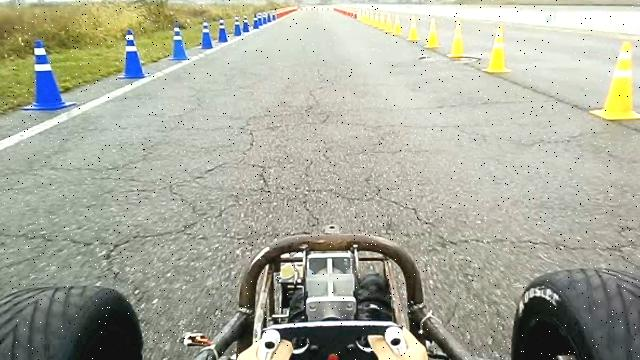blue cone: (20, 39, 77, 110), (117, 28, 149, 79), (168, 24, 188, 61), (198, 20, 214, 50), (217, 17, 228, 42), (233, 15, 243, 36), (242, 14, 250, 33), (252, 17, 260, 29)
yellow cone: (588, 40, 640, 120), (481, 25, 512, 73), (447, 19, 467, 57), (423, 17, 441, 48), (615, 41, 633, 70), (406, 15, 420, 41), (392, 15, 403, 36), (383, 13, 393, 33), (378, 12, 387, 30), (372, 11, 379, 28)
